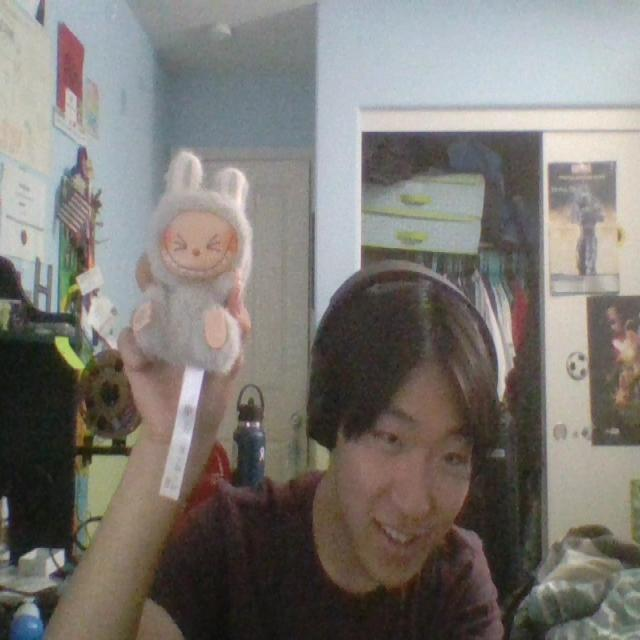labubu: (131, 151, 252, 375)
